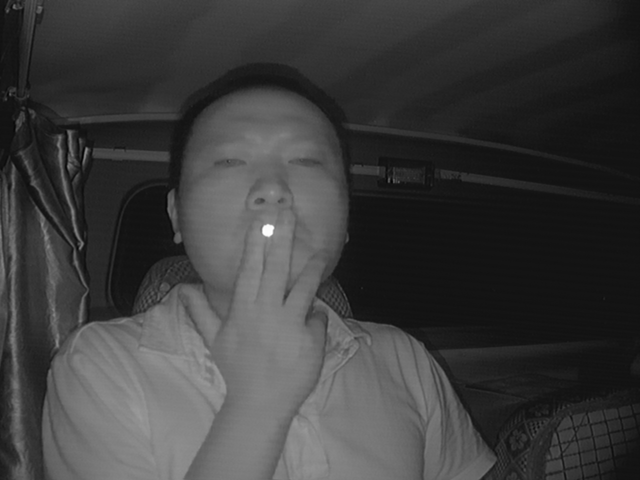hand: (236, 211, 339, 356)
